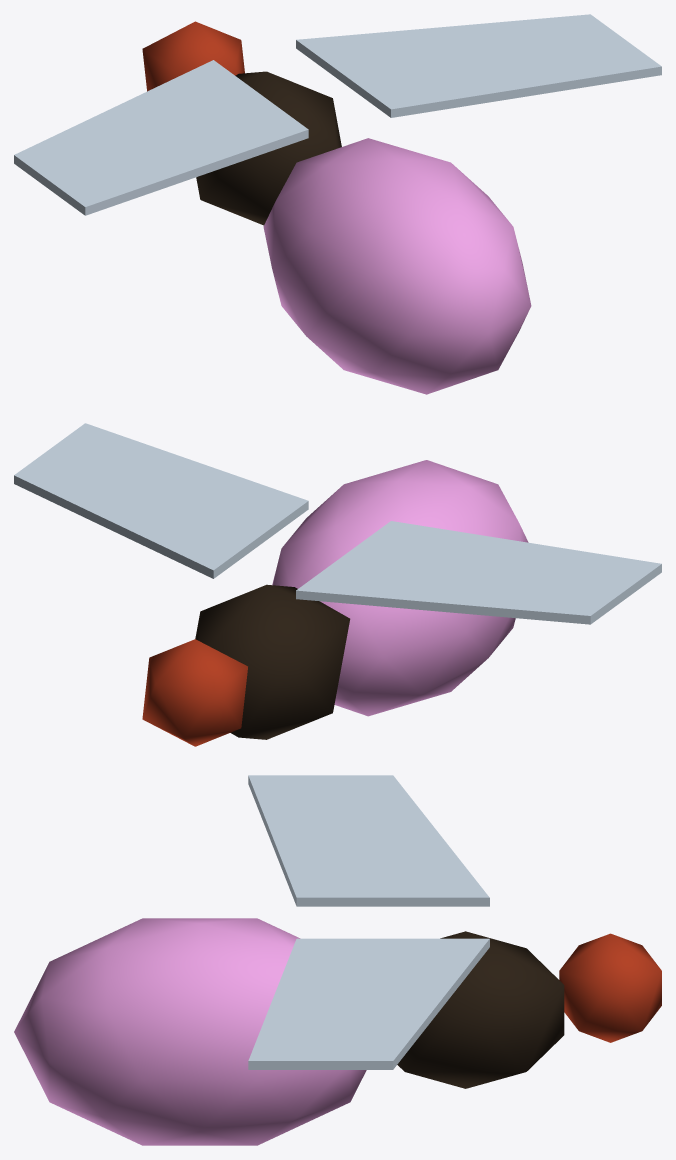
File: faeling.glb
3 renders of one model, top to bottom at view 1: azimuth 30°, elevation 25°; view 2: azimuth 150°, elevation 25°; view 3: azimuth 270°, elevation 25°, orthographic.
Visible parts, largest first — view 1: faeling_v0; view 2: faeling_v0; view 3: faeling_v0.
Part boxes in pixels (x1=…): faeling_v0: x1=14, y1=14, x2=661, y2=394; faeling_v0: x1=14, y1=423, x2=661, y2=746; faeling_v0: x1=14, y1=775, x2=661, y2=1145.
Bounding box in the file's own units: 0.28 × 0.1015 × 0.2683.
